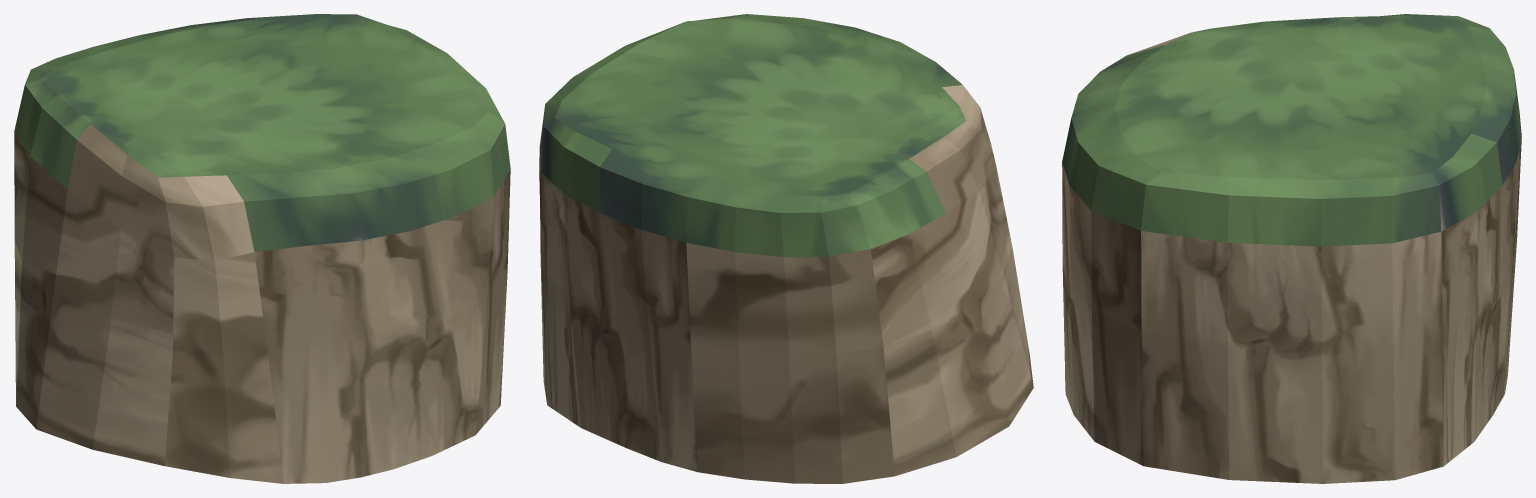
Rendered from floor1.fbx.
3 views of the same model, side by side, from view 1: azimuth 30°, elevation 25°; view 2: azimuth 150°, elevation 25°; view 3: azimuth 270°, elevation 25° (orthographic). The views are drawn at different scales.
Parts seen in each view (by area): view 1: 地板; view 2: 地板; view 3: 地板.
Boxes of the visible parts, box(x1,y1,x2,y2) form: 地板: box(14, 14, 510, 483); 地板: box(539, 14, 1033, 483); 地板: box(1062, 14, 1521, 483).
Size of the model in its own units: 2617 by 1689 by 2370.
Materials: 1 (1 with a texture image).
